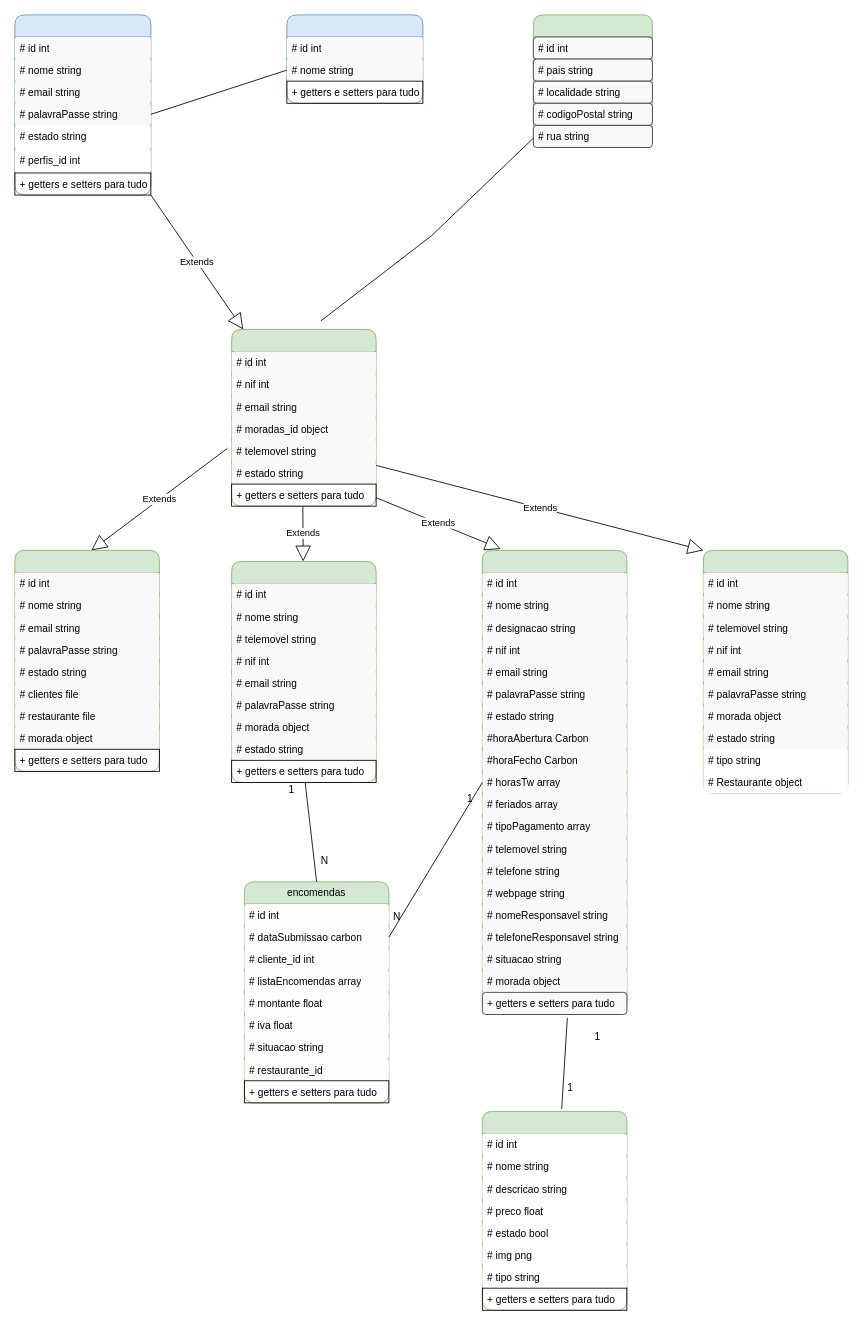
Some shapes in this 863 by 1328 pixel diagram are drawn without their labels. Here are the shapes that lost their labels. From the top down, the box of each, then its label:
(286, 14, 423, 103): perfis
(533, 14, 652, 147): Morada
(14, 14, 151, 195): utilizadores
(231, 329, 376, 506): abstract Entidades
(14, 550, 159, 771): Admnistradores
(231, 561, 376, 782): Clientes
(703, 550, 848, 793): Funcionarios
(482, 550, 627, 1014): Restaurante
(482, 1111, 627, 1310): ementas
